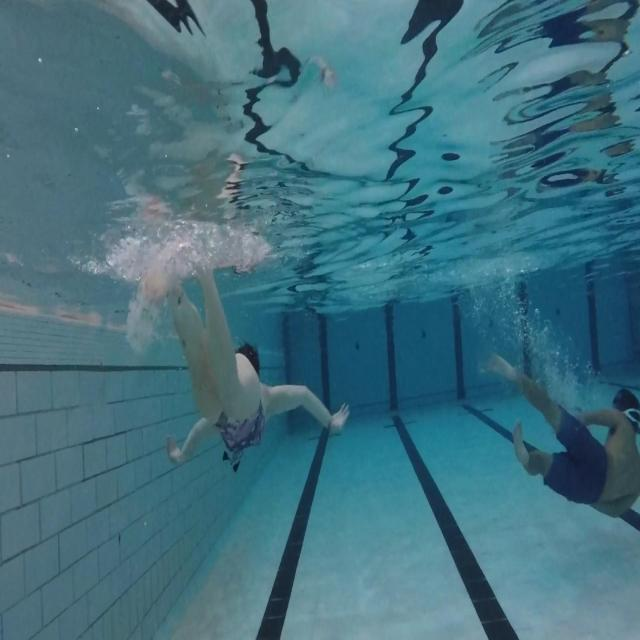human: (160, 256, 350, 473), (480, 351, 640, 531)
